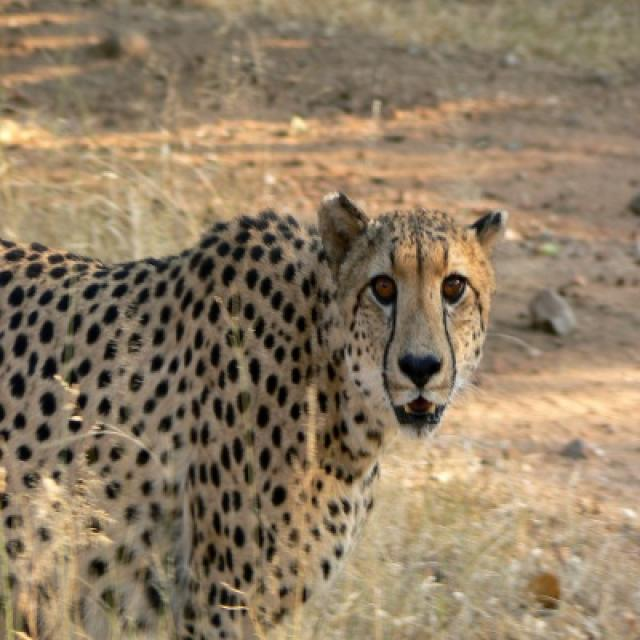Cheetah: (0, 192, 506, 638)
